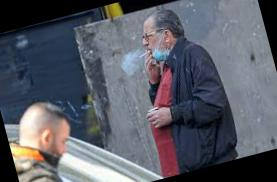mask_weared_incorrect: (42, 120, 83, 166), (136, 26, 173, 65)
